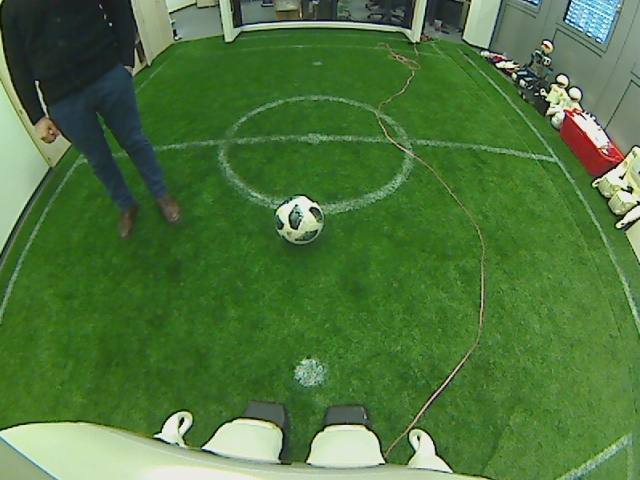ball: (274, 195, 325, 243)
